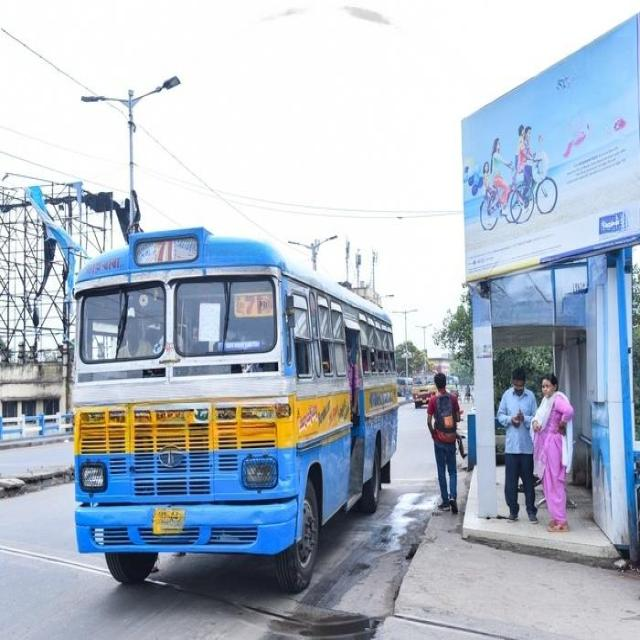bus: (72, 228, 398, 591)
